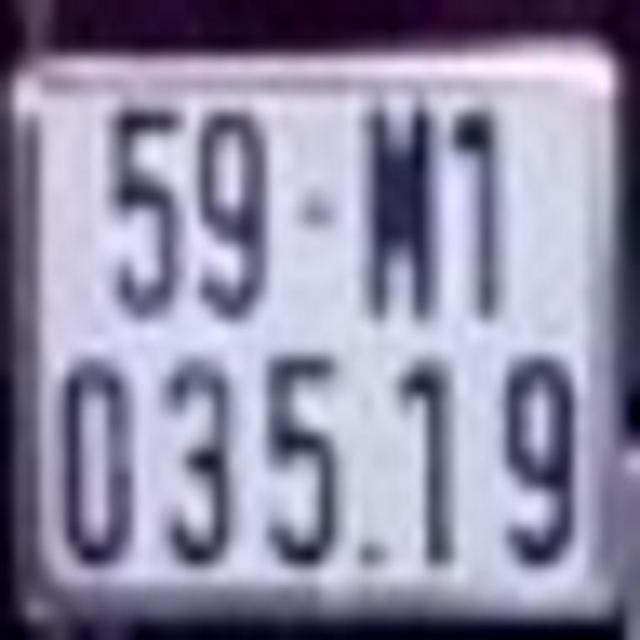0: (59, 343, 136, 564)
1: (396, 344, 464, 569), (454, 110, 506, 324)
3: (152, 358, 235, 566)
5: (260, 347, 344, 567), (102, 102, 182, 324)
9: (501, 336, 578, 562), (192, 106, 270, 324)
H: (369, 118, 437, 324)
